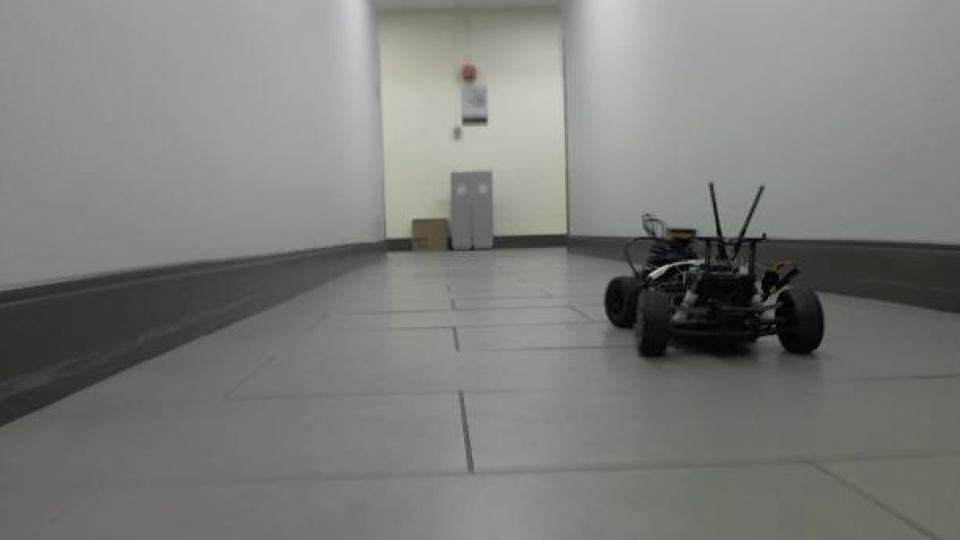car: (603, 178, 829, 360)
